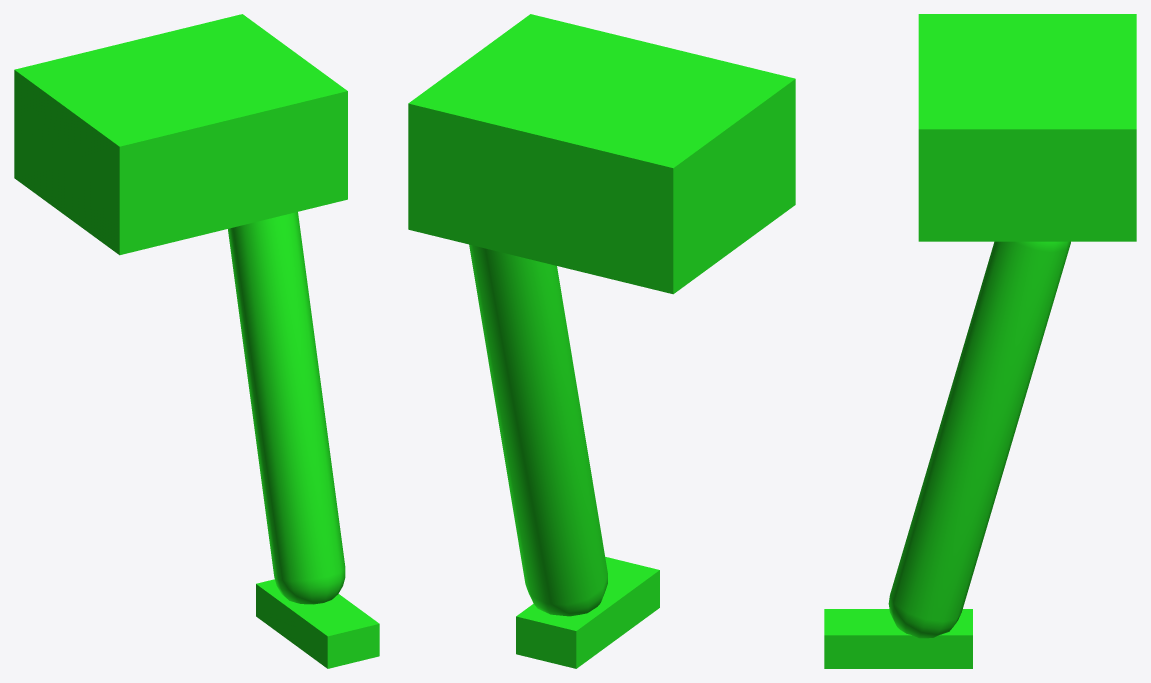
The model's file is selfBalance_01.fbx.
3 views of the same model, side by side, from view 1: azimuth 30°, elevation 25°; view 2: azimuth 150°, elevation 25°; view 3: azimuth 270°, elevation 25° (orthographic). The views are drawn at different scales.
Parts seen in each view (by area): view 1: body, leg, foot; view 2: body, leg, foot; view 3: body, leg, foot.
Part boxes in pixels (x1,y1,x2,y2): body: (14, 14, 347, 255); leg: (228, 212, 345, 604); foot: (256, 579, 379, 668); body: (408, 14, 795, 294); leg: (469, 244, 607, 616); foot: (516, 557, 659, 668); body: (918, 14, 1136, 241); leg: (888, 241, 1070, 638); foot: (824, 609, 972, 668).
Size of the model in its own units: 22 by 25.19 by 48.68.
